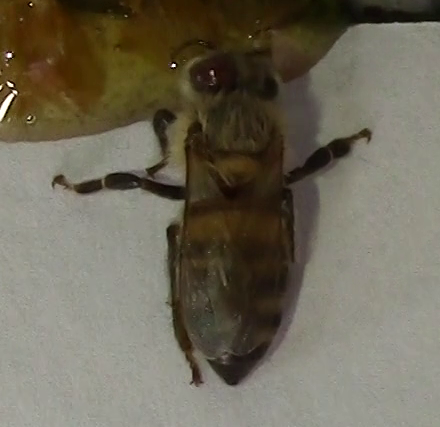Varroa destructor: (187, 51, 243, 95)
